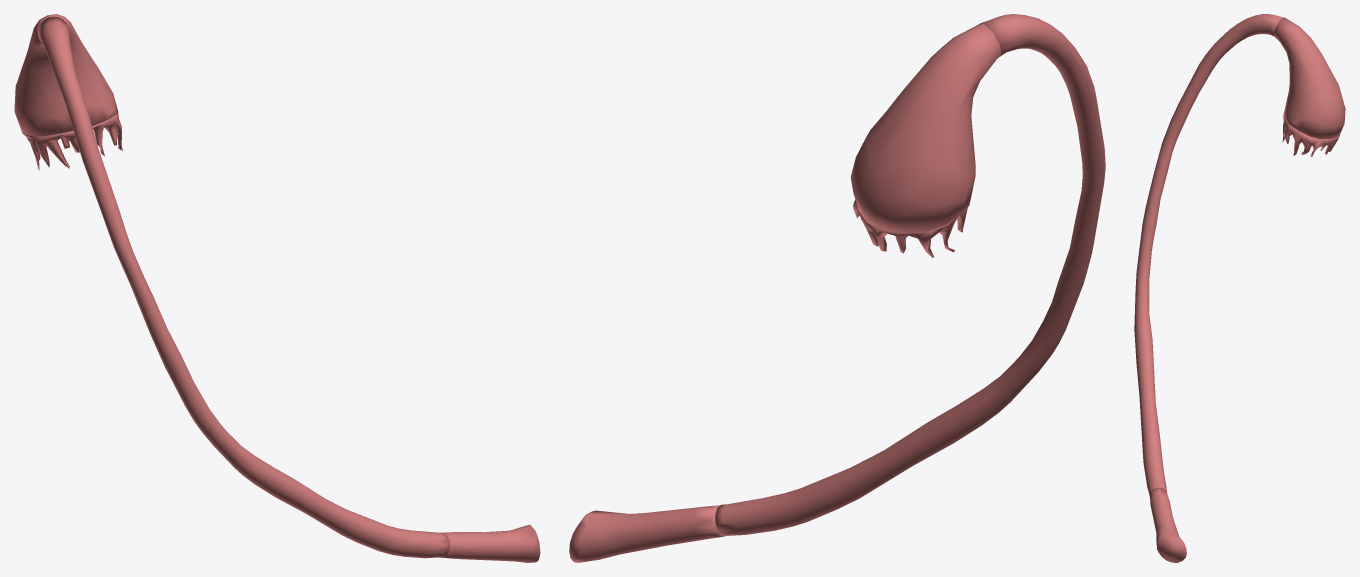
File: vh_f_fallopian_tube_r-20.glb
3 views of the same model, side by side, from view 1: azimuth 30°, elevation 25°; view 2: azimuth 150°, elevation 25°; view 3: azimuth 270°, elevation 25° (orthographic). The views are drawn at different scales.
Visible parts, largest first — view 1: VH_F_ampulla_of_uterine_tube_R, VH_F_uterine_tube_infundibulum_R, VH_F_isthmus_of_fallopian_tube_R, VH_F_fibria_of_uterine_tube_R; view 2: VH_F_ampulla_of_uterine_tube_R, VH_F_uterine_tube_infundibulum_R, VH_F_isthmus_of_fallopian_tube_R, VH_F_fibria_of_uterine_tube_R; view 3: VH_F_ampulla_of_uterine_tube_R, VH_F_uterine_tube_infundibulum_R, VH_F_isthmus_of_fallopian_tube_R, VH_F_fibria_of_uterine_tube_R.
Part boxes in pixels (<box>): VH_F_ampulla_of_uterine_tube_R: <box>38,16,449,558</box>; VH_F_uterine_tube_infundibulum_R: <box>14,14,118,136</box>; VH_F_isthmus_of_fallopian_tube_R: <box>443,525,540,562</box>; VH_F_fibria_of_uterine_tube_R: <box>22,113,122,170</box>; VH_F_ampulla_of_uterine_tube_R: <box>715,14,1105,536</box>; VH_F_uterine_tube_infundibulum_R: <box>850,24,1001,232</box>; VH_F_isthmus_of_fallopian_tube_R: <box>569,505,724,562</box>; VH_F_fibria_of_uterine_tube_R: <box>853,199,967,257</box>; VH_F_ampulla_of_uterine_tube_R: <box>1134,14,1283,495</box>; VH_F_uterine_tube_infundibulum_R: <box>1273,17,1345,138</box>; VH_F_isthmus_of_fallopian_tube_R: <box>1149,488,1186,562</box>; VH_F_fibria_of_uterine_tube_R: <box>1282,117,1340,156</box>.
Size of the model in its own units: 0.0344 by 0.0446 by 0.0209.
